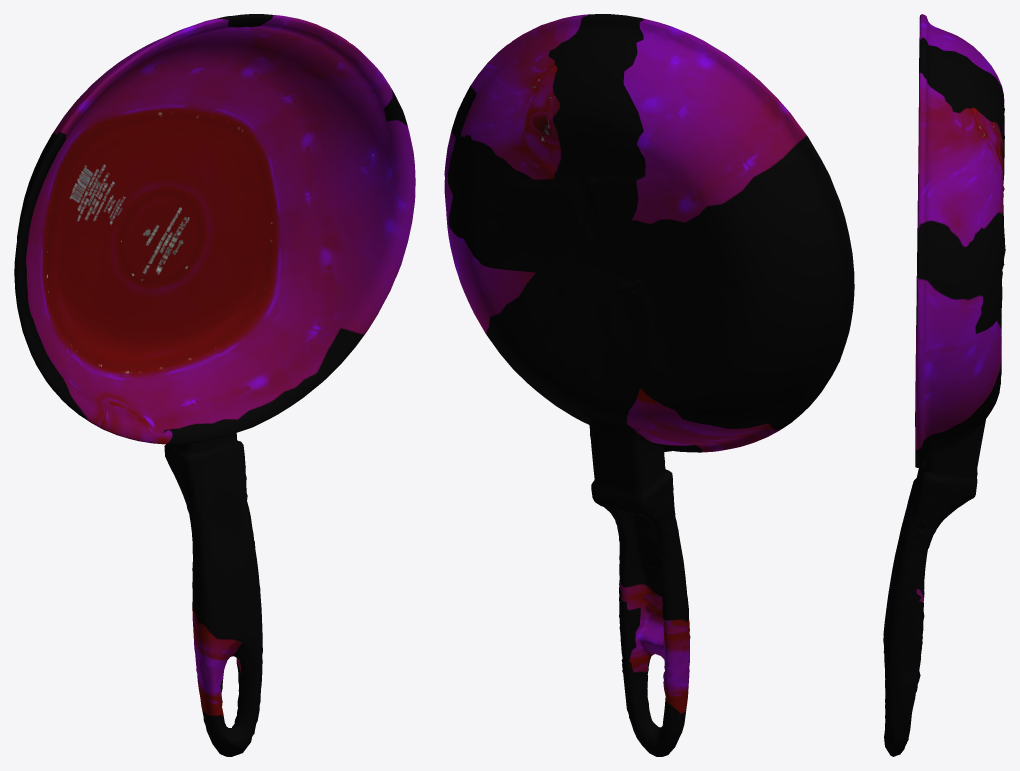
3 renders of one model, left to right at view 1: azimuth 30°, elevation 25°; view 2: azimuth 150°, elevation 25°; view 3: azimuth 270°, elevation 25°, orthographic. The views are drawn at different scales.
Visible parts, largest first — view 1: model.004; view 2: model.004; view 3: model.004.
Boxes of the visible parts, bbox=[...] form: model.004: bbox=[14, 14, 415, 756]; model.004: bbox=[444, 14, 854, 756]; model.004: bbox=[883, 14, 1005, 756].
Size of the model in its own units: 0.2044 by 0.3559 by 0.055.
